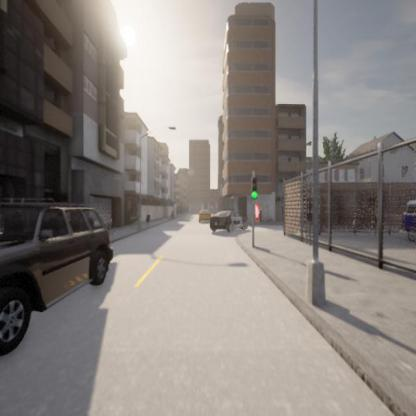traffic_light_green: (252, 172, 260, 200)
vehicle: (0, 202, 112, 355), (210, 210, 239, 234), (198, 209, 212, 223)
